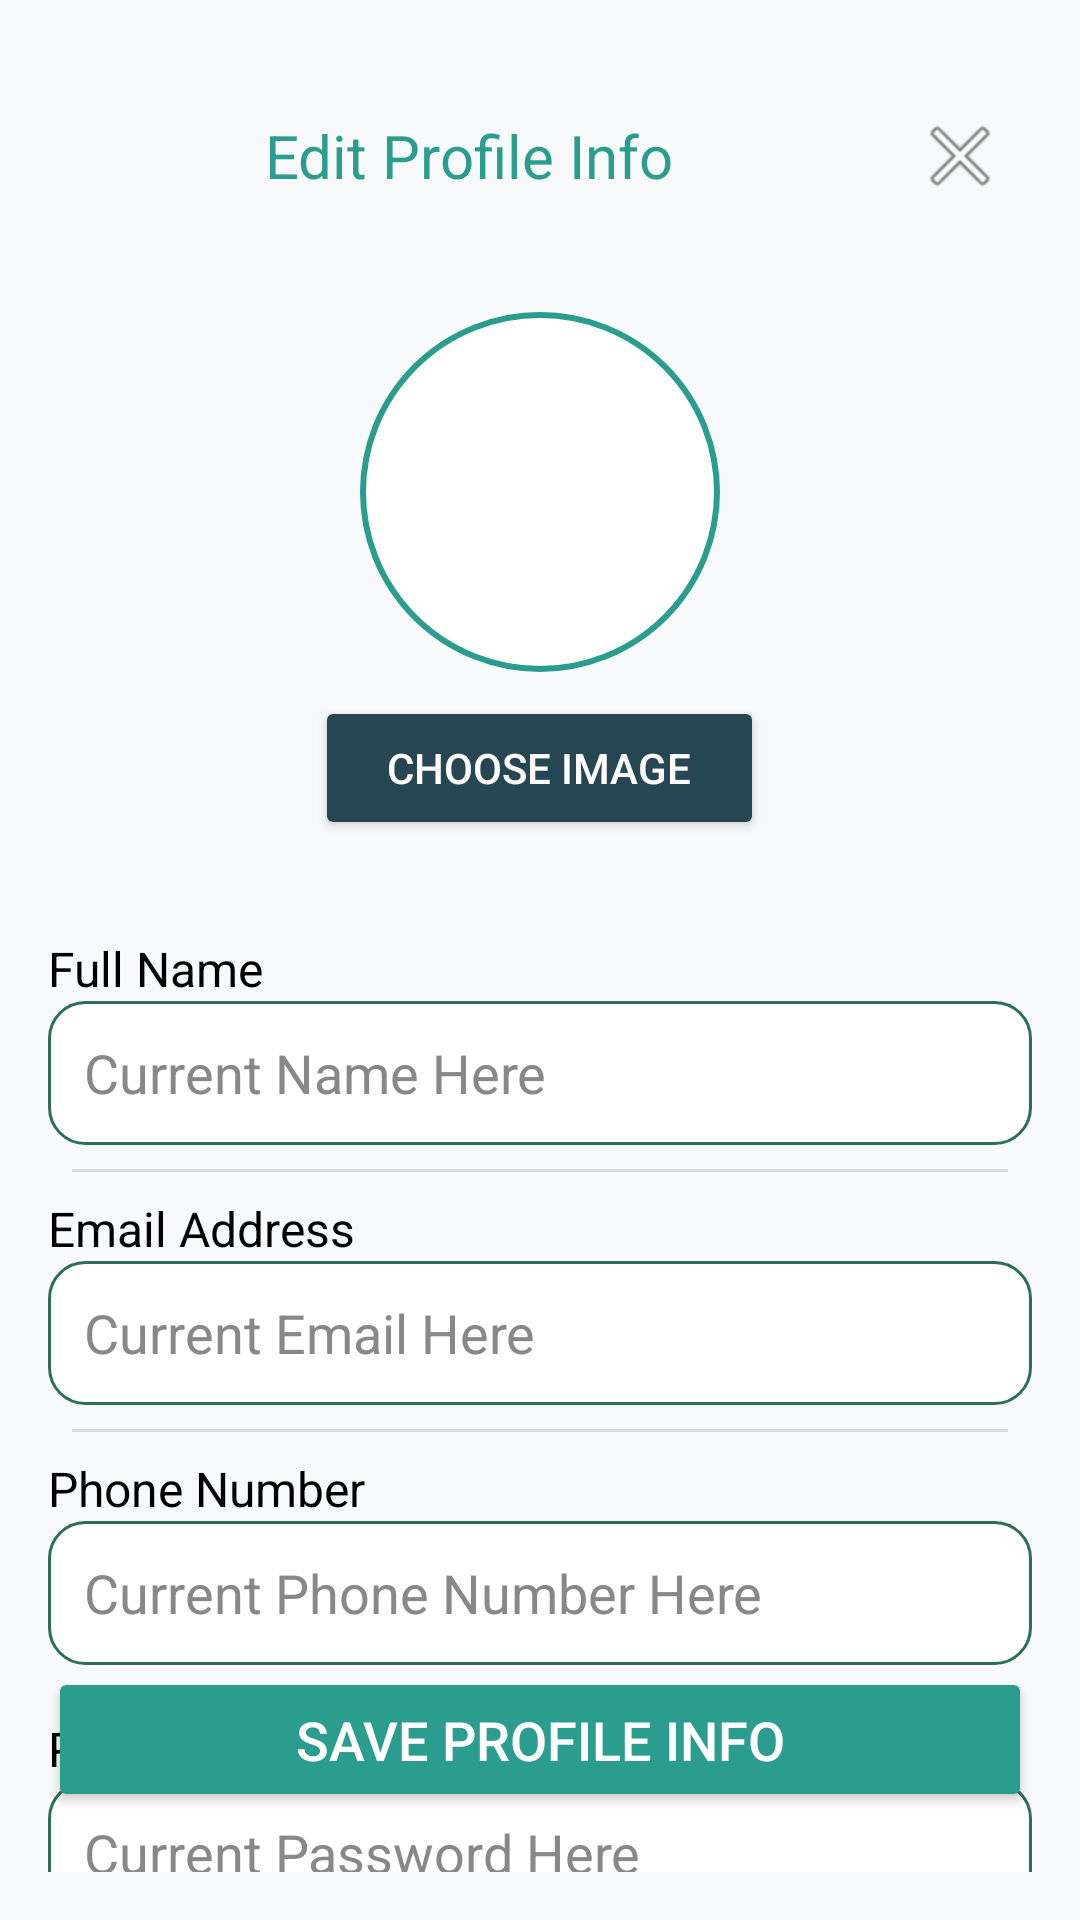

Icons on this 1080×1920 Android screen, each with the point to tap as point (x, y):
Exit: point (960, 156)
